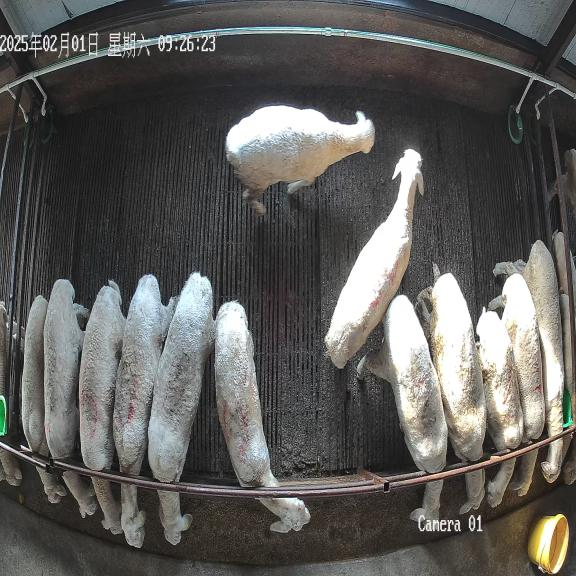eating: (214, 301, 310, 533), (357, 294, 448, 521), (148, 272, 214, 545), (415, 264, 486, 514), (113, 274, 177, 548), (493, 240, 564, 483), (44, 279, 99, 518), (488, 273, 545, 496), (79, 280, 125, 534), (477, 308, 524, 508), (22, 296, 66, 504)
stand: (325, 149, 424, 368), (225, 105, 375, 215)
